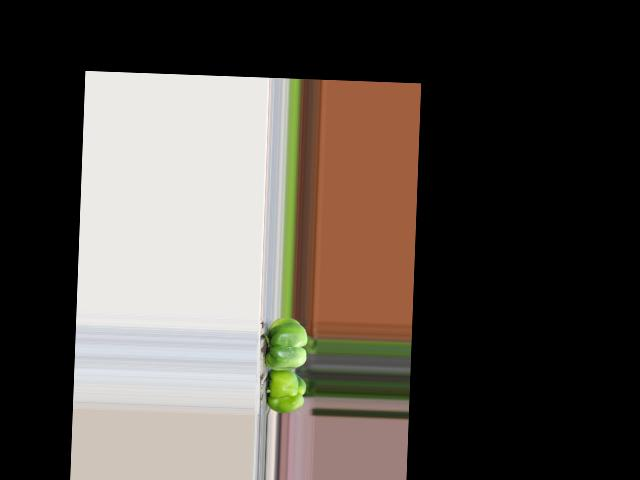bell_pepper: (262, 368, 308, 415)
